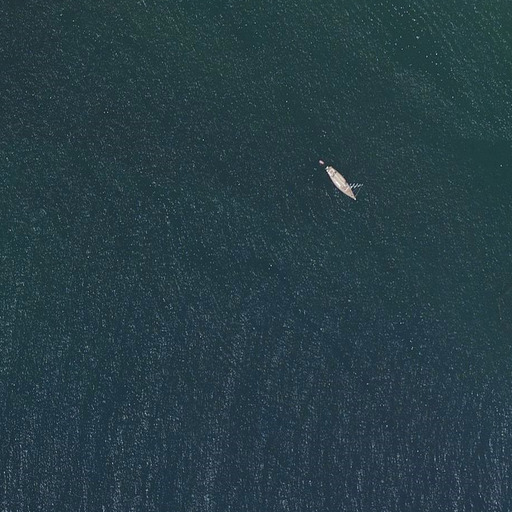ship: (322, 166, 358, 204)
